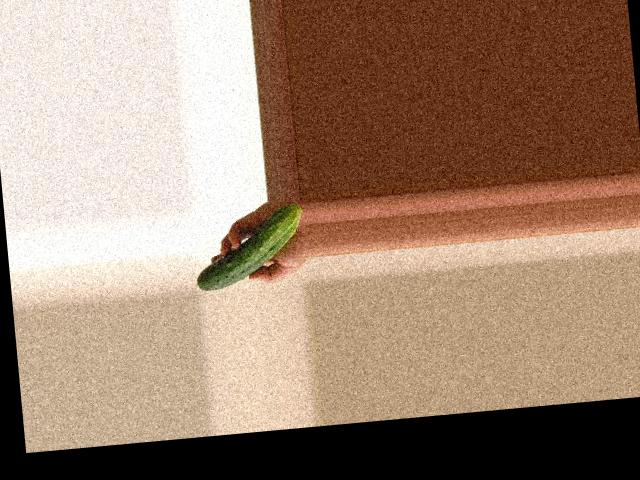cucumber: (190, 202, 307, 291)
